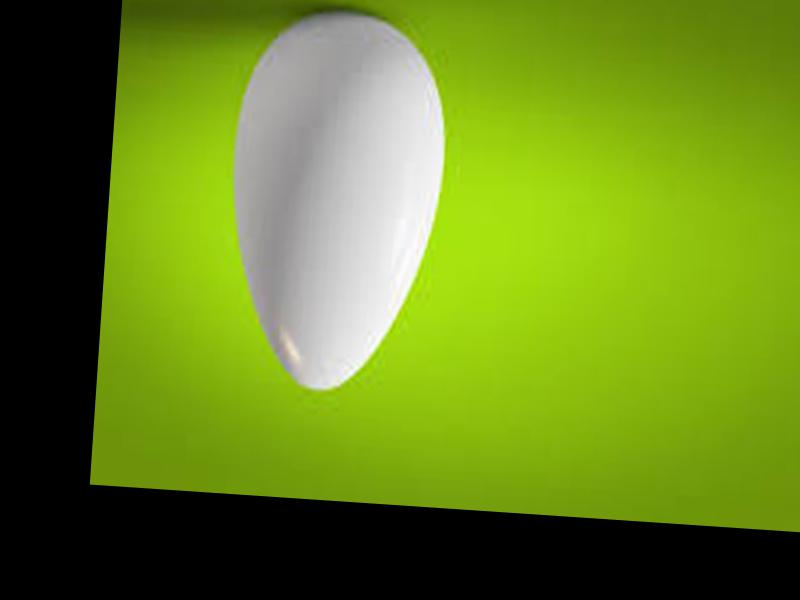Eggs: (219, 7, 452, 402)
